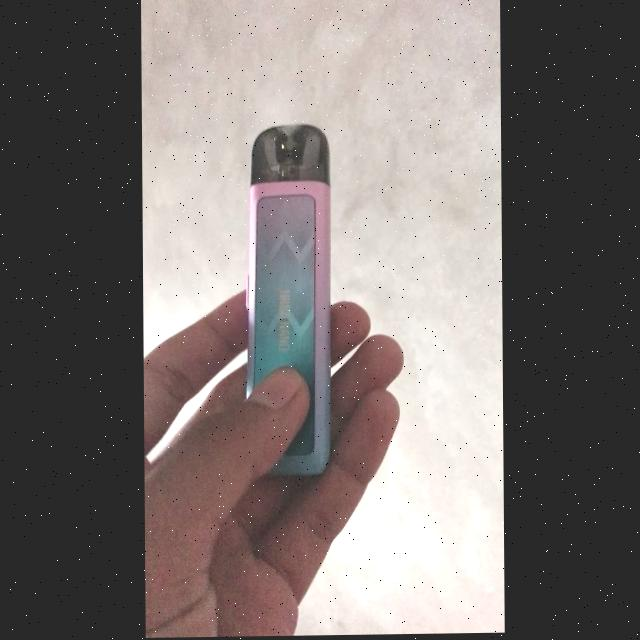vape: (245, 125, 332, 477)
